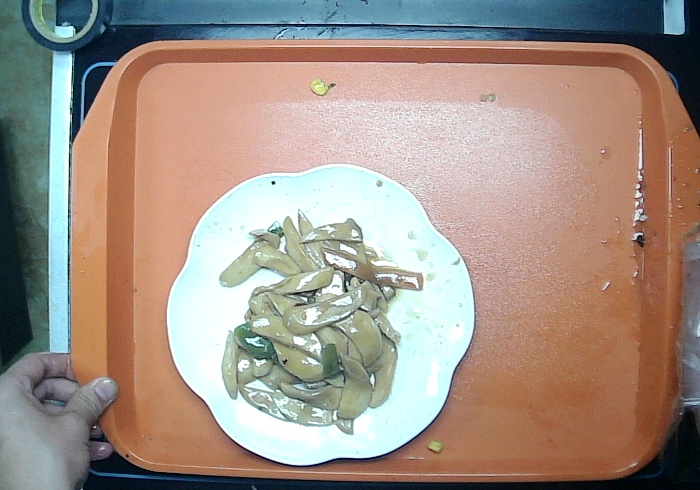HZYJPL-Bai_Se_Hua_Duo_Wan: (164, 163, 475, 468)
